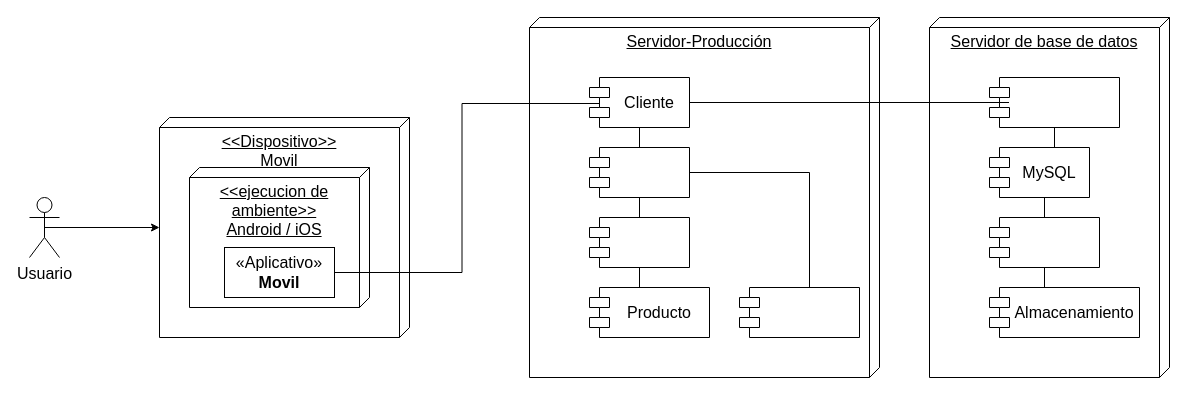
Image size: 1187x395. Some labels were removed from this diagram. Each missing label, with the centre of its shape:
Autenticacion: pixel 1054 102
BaseDatos: pixel 1044 242
Carrito: pixel 639 242
Compra: pixel 639 172
MetodoPago: pixel 799 312
